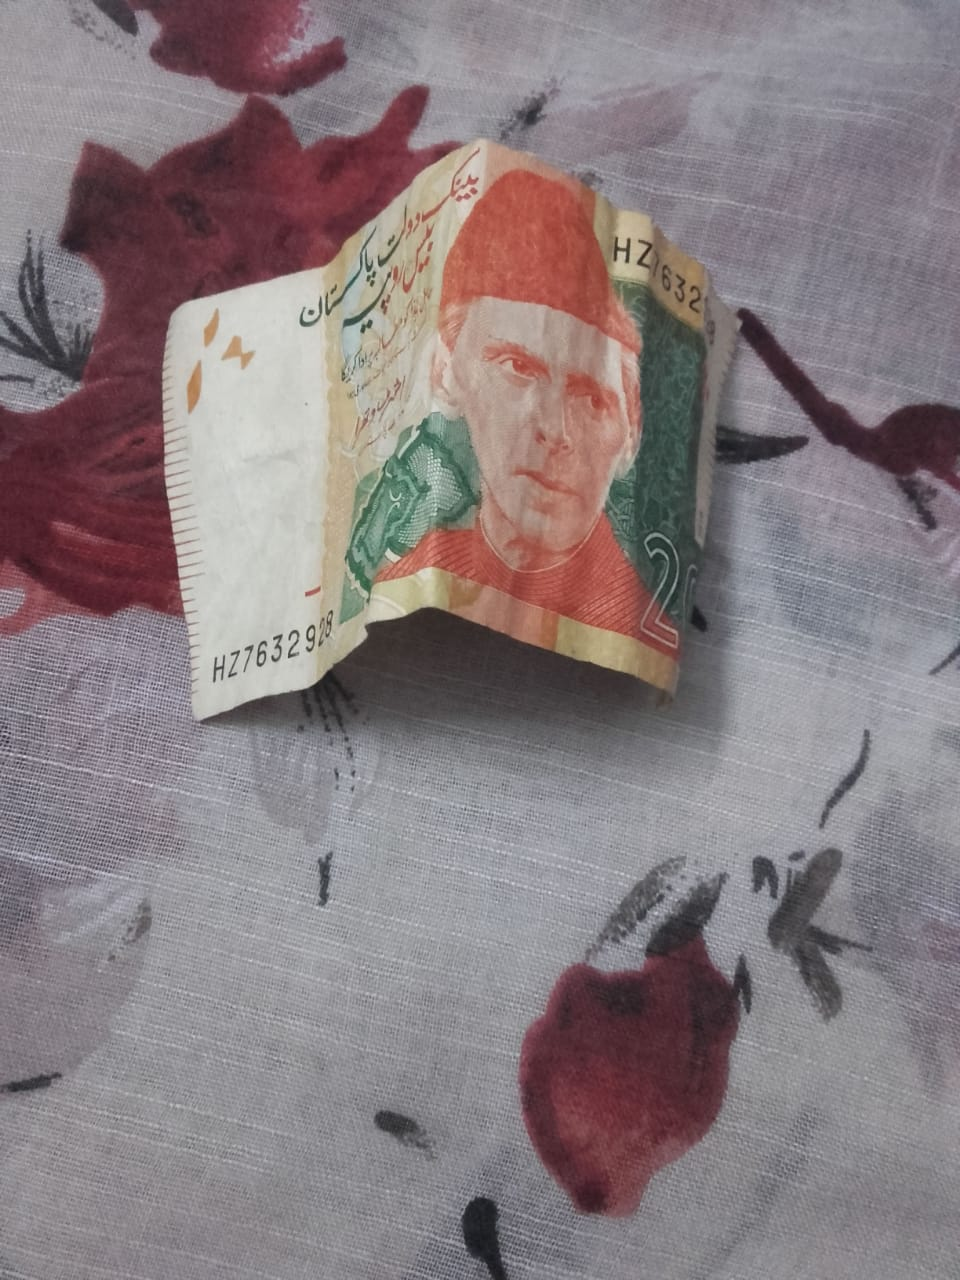20 rupee: (137, 133, 782, 765)
